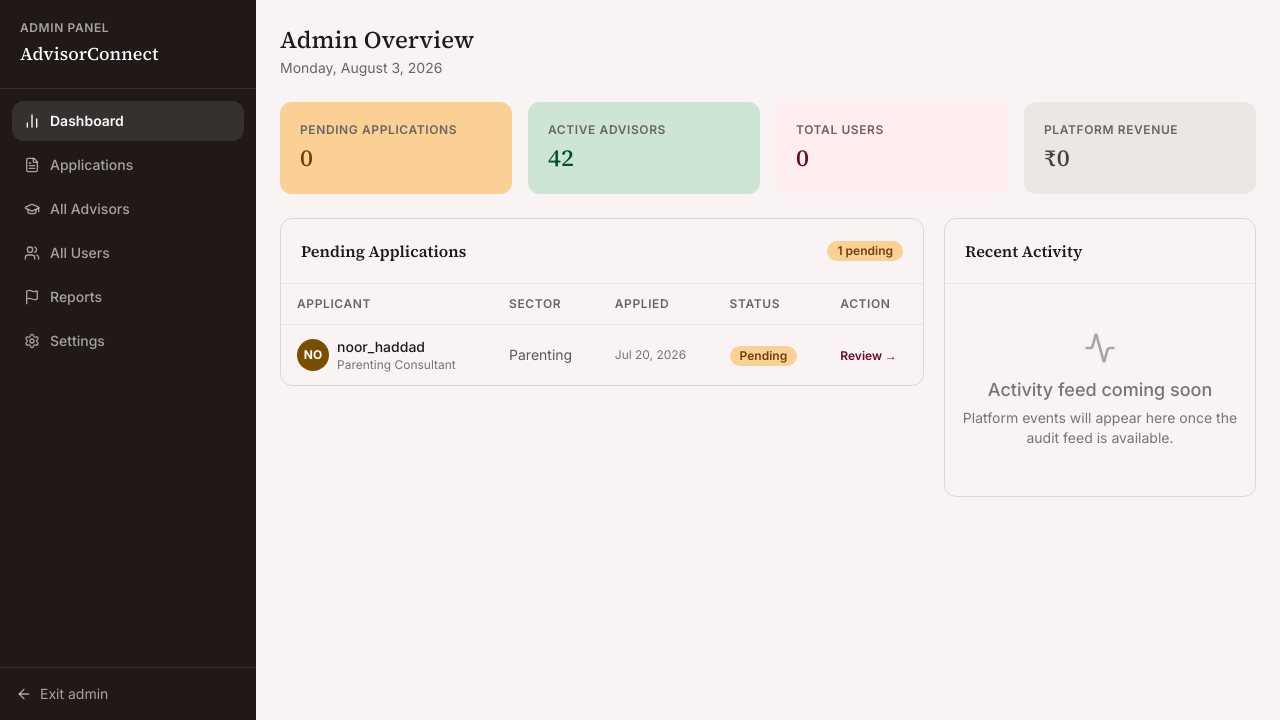
Test: AdminDashboardPage › applications table › lists every application on the Applications tab
Click the button "Applications". click: (128, 165)
box: [12,145,244,185]
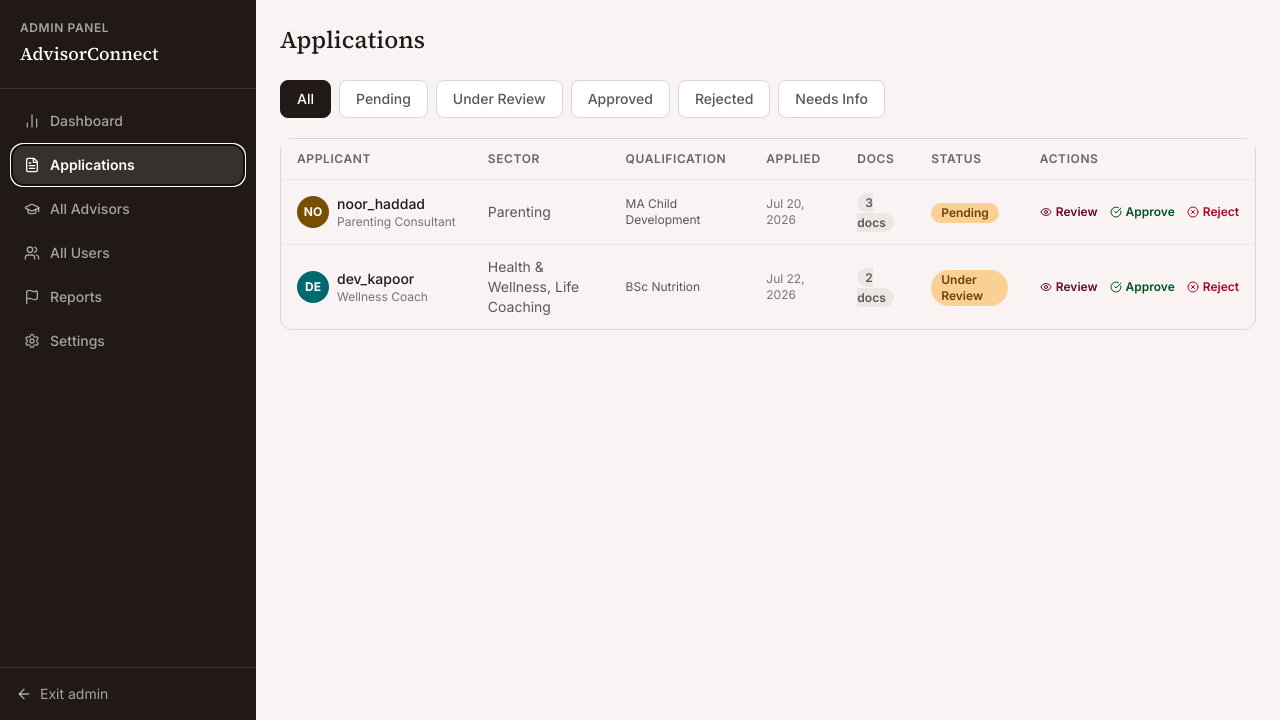
Expected: the text "noor_haddad" is shown, [337,195,425,212]
Expected: the text "dev_kapoor" is shown, [337,269,428,289]
